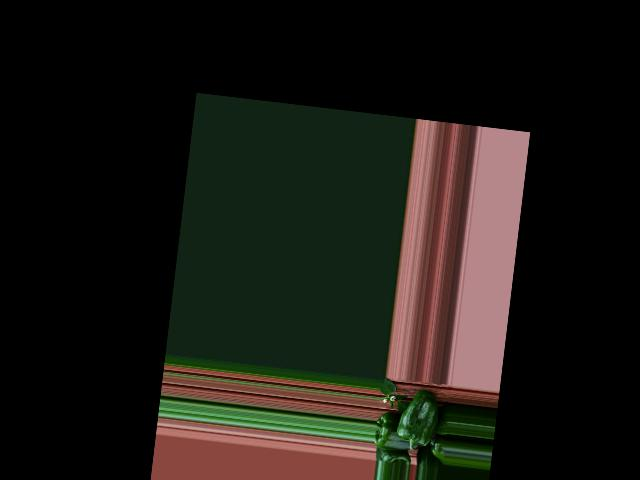bell_pepper: (426, 437, 447, 465)
